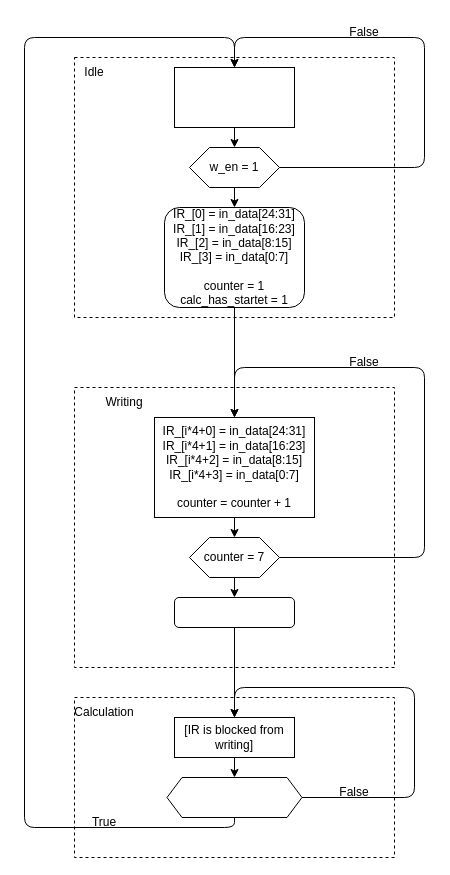
Some shapes in this 450 by 875 pixel diagram are drawn without their labels. Here are the shapes that lost their labels. From the top down, the box of each, then its label:
(174, 66, 294, 128): counter = 0 calc_has_startet = 0
(174, 596, 294, 628): accel_is_busy = 1
(166, 776, 302, 818): calc_has_finished = 1
